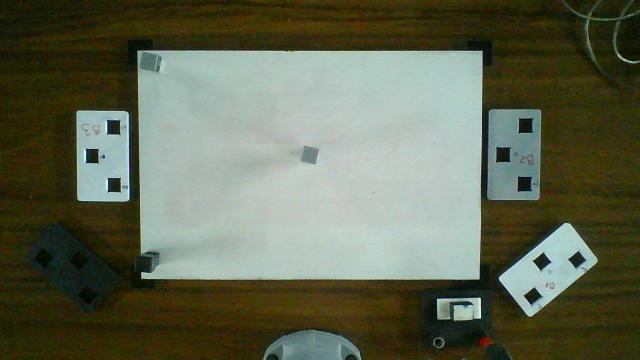peca_cinza: (301, 146, 320, 165), (140, 53, 157, 69)
peca_preta: (136, 257, 151, 272)
